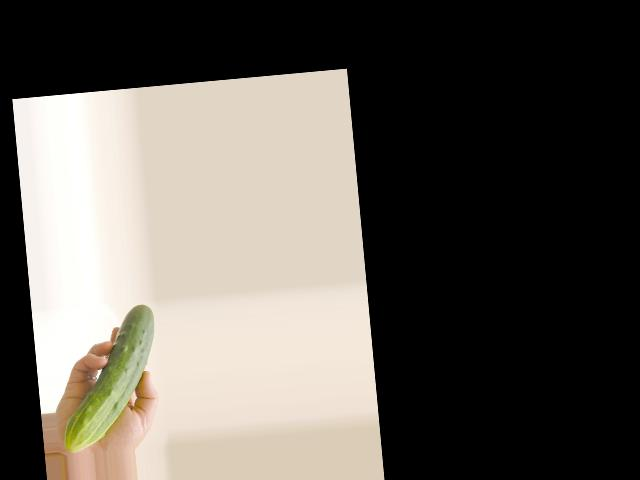cucumber: (52, 303, 164, 452)
